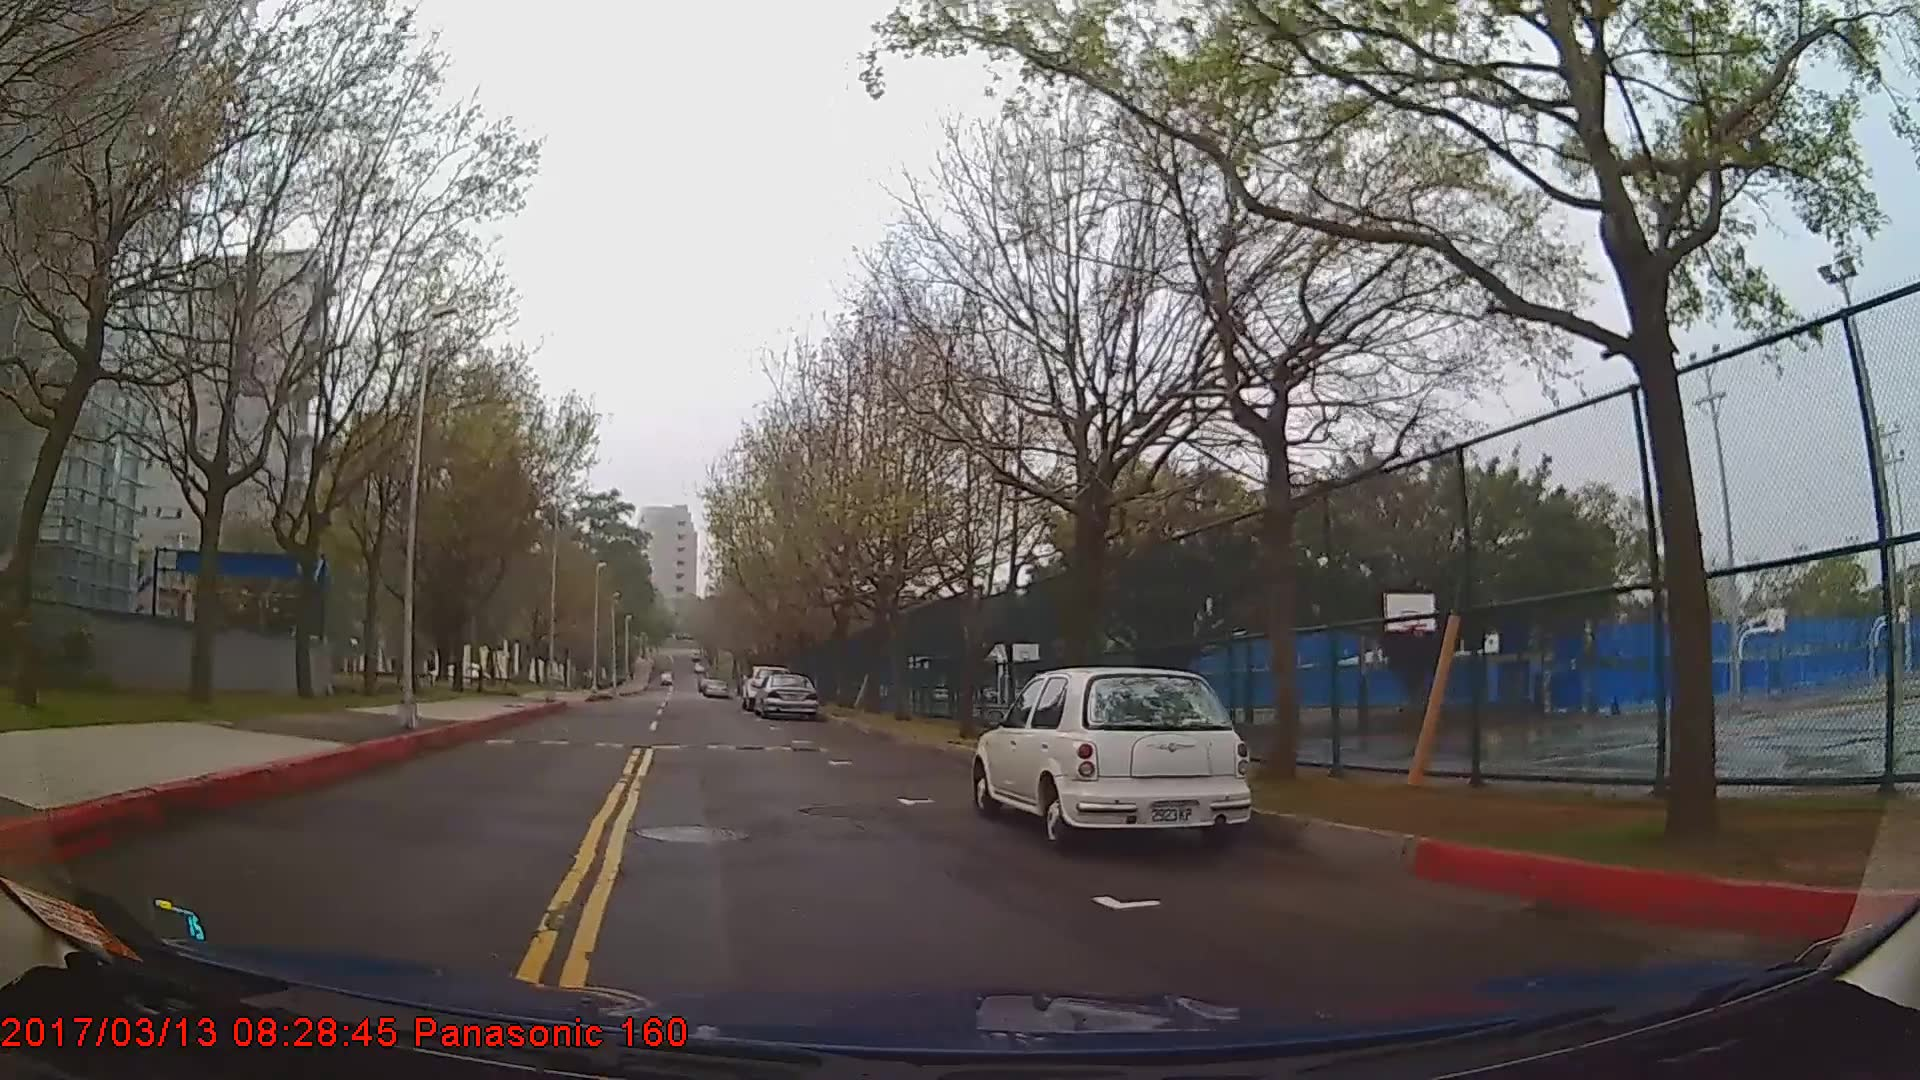vehicle: (971, 667, 1251, 849), (749, 671, 818, 717)
